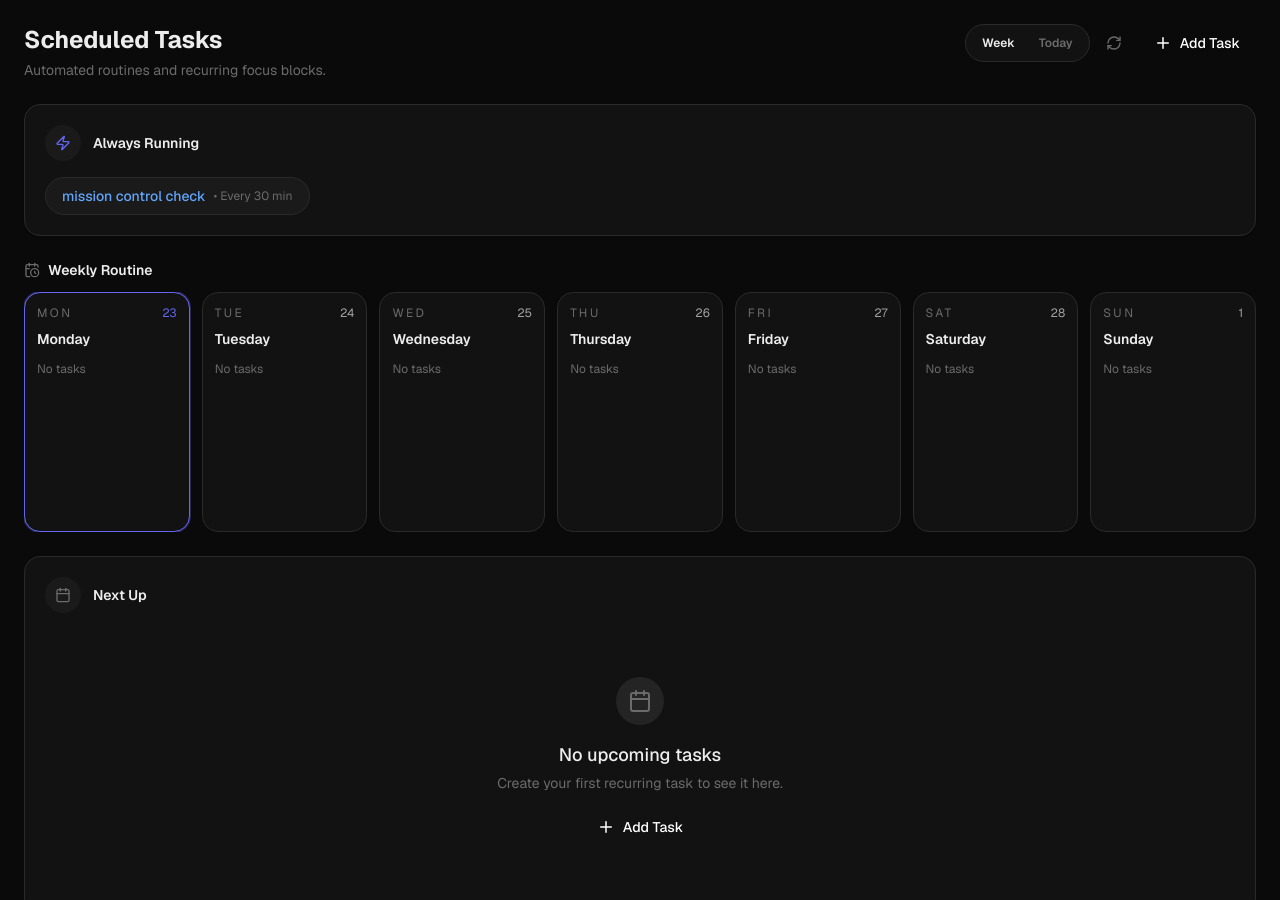
ScheduledPage › switches between week and today views
Step 1. Click the button "Today" → (1056, 43), box [1027, 29, 1085, 57]
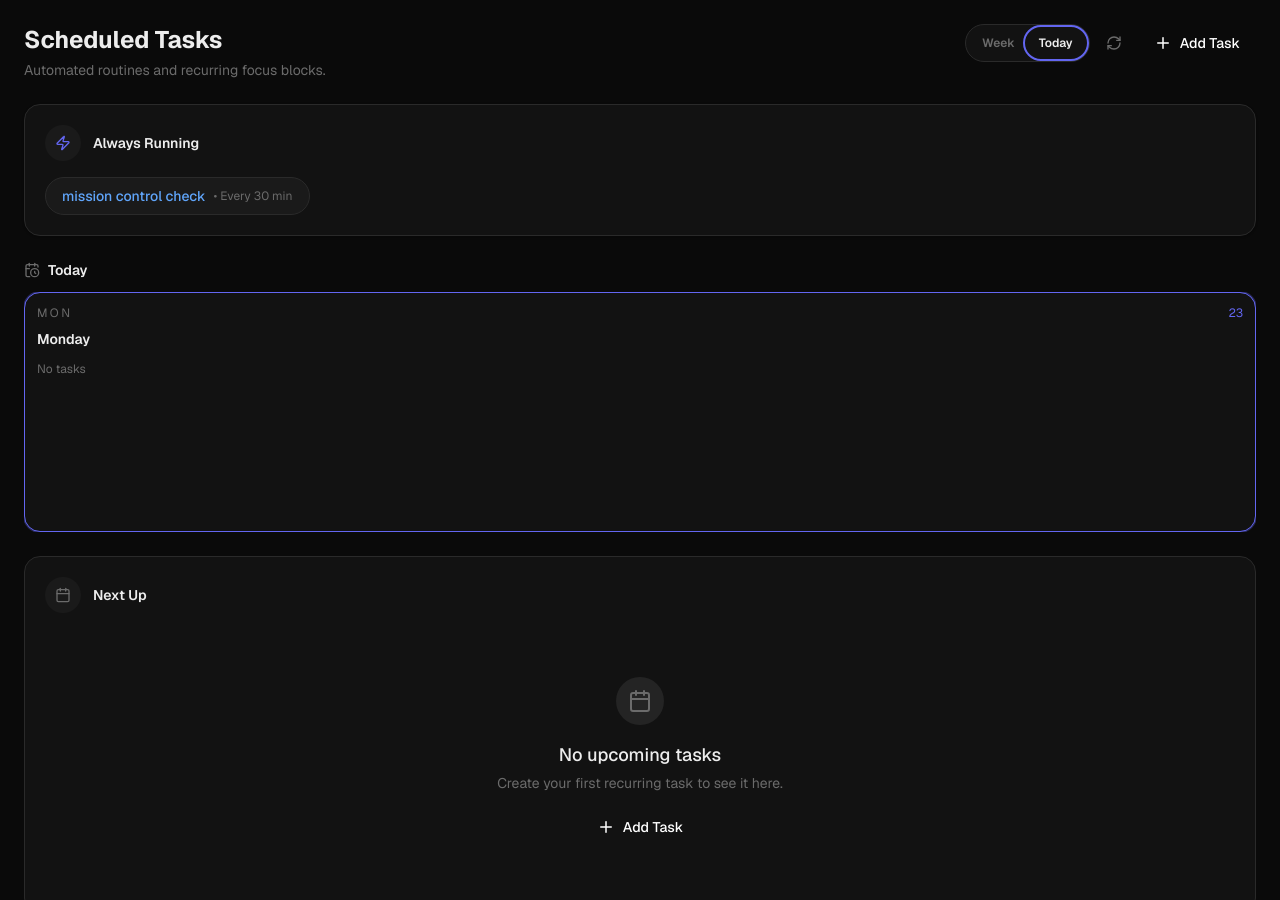
Result: the number of elements with test id "scheduled-day-card" is 1 at [24, 292, 1256, 532]
Step 2. Click the button "Week" → (998, 43), box [970, 29, 1027, 57]
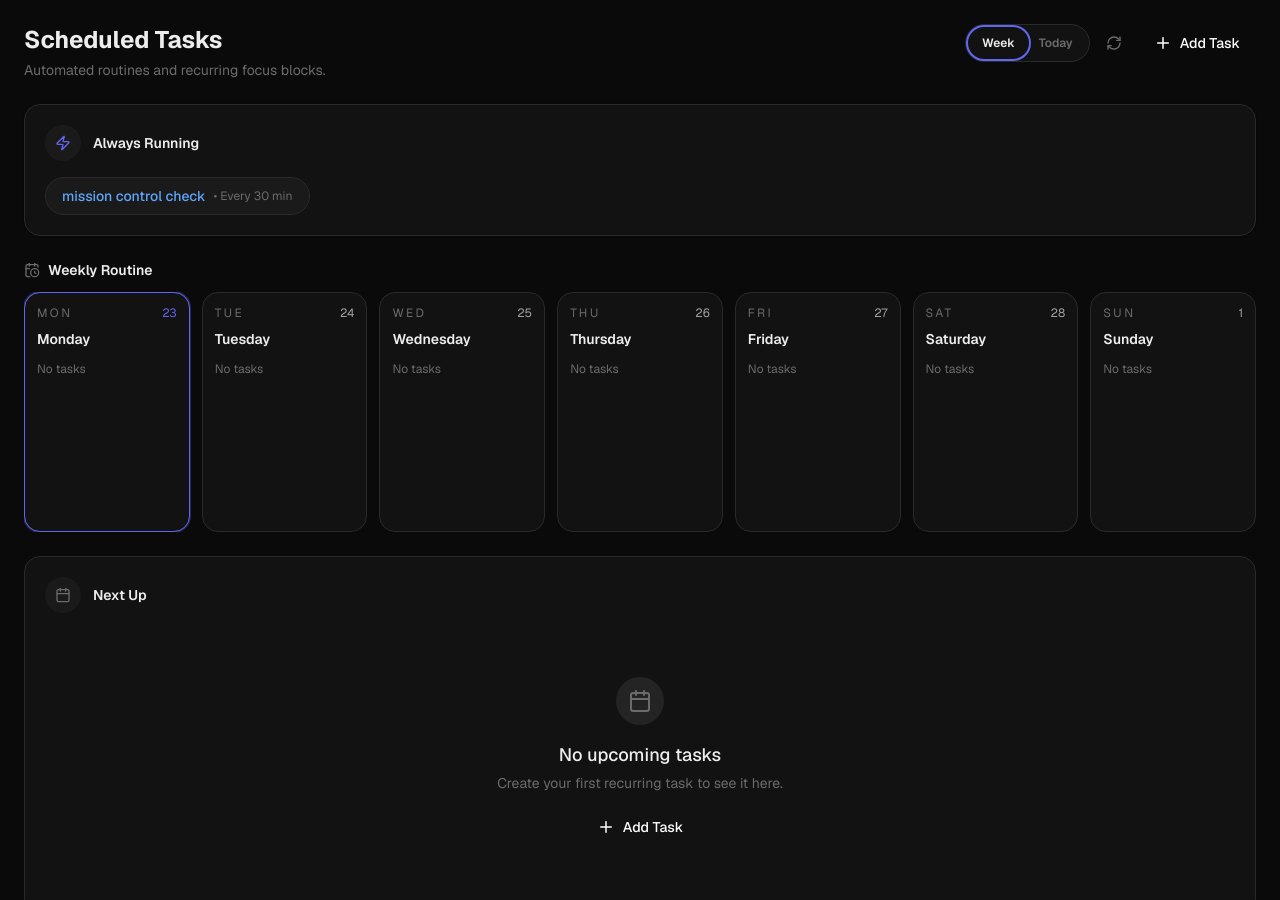
Result: the number of elements with test id "scheduled-day-card" is 7
